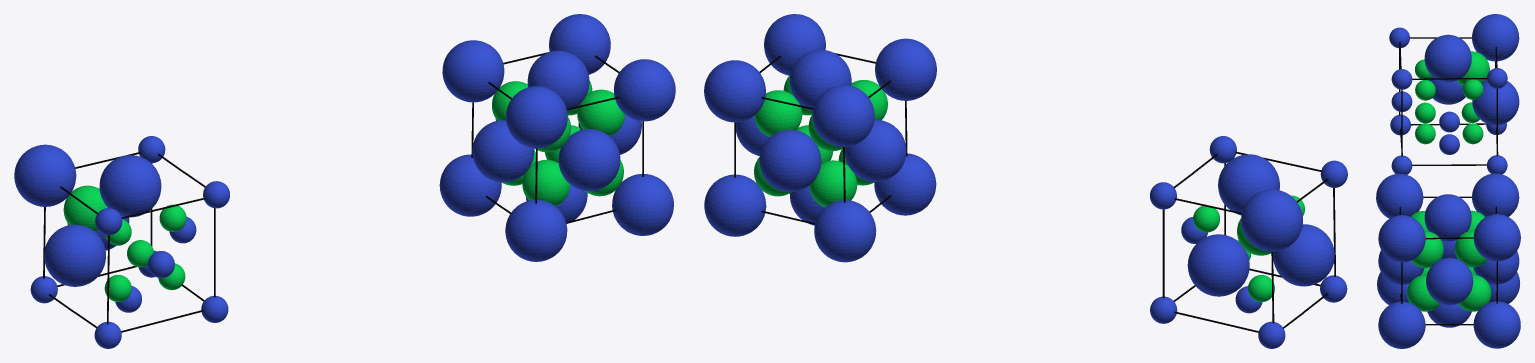
The model's file is CCCuCaF2.gltf.
3 views of the same model, side by side, from view 1: azimuth 30°, elevation 25°; view 2: azimuth 150°, elevation 25°; view 3: azimuth 270°, elevation 25° (orthographic). The views are drawn at different scales.
Parts seen in each view (by area): view 1: Sphere.030_Sphere.035, Sphere.001_Sphere.161, Sphere.026_Sphere.180, Sphere.006_Sphere.166, Sphere.025_Sphere.179, Sphere.016_Sphere.171, Sphere.007_Sphere.167, Sphere.042_Sphere.047, Sphere.024_Sphere.031, Sphere.009_Sphere.169, Sphere.020_Sphere.175, Sphere.015_Sphere.183 (+17 smaller); view 2: Sphere.041_Sphere.046, Sphere.042_Sphere.047, Sphere.020_Sphere.175, Sphere.015_Sphere.183, Sphere.023_Sphere.178, Sphere.004_Sphere.164, Sphere.025_Sphere.179, Sphere.001_Sphere.161, Sphere.030_Sphere.035, Sphere.009_Sphere.169, Sphere.006_Sphere.166, Sphere.026_Sphere.180 (+15 smaller); view 3: Sphere.015_Sphere.183, Sphere.007_Sphere.167, Sphere.004_Sphere.164, Sphere.026_Sphere.180, Sphere.003_Sphere.163, Sphere.024_Sphere.031, Sphere.042_Sphere.047, Sphere.005_Sphere.165, Sphere.001_Sphere.161, Sphere.025_Sphere.179, Sphere.041_Sphere.046, Sphere.016_Sphere.171 (+33 smaller).
Part boxes in pixels (x1,y1,x2,y2): Sphere.030_Sphere.035: (44, 224, 105, 286); Sphere.001_Sphere.161: (506, 86, 567, 148); Sphere.026_Sphere.180: (613, 59, 675, 121); Sphere.006_Sphere.166: (505, 199, 567, 261); Sphere.025_Sphere.179: (442, 40, 504, 102); Sphere.016_Sphere.171: (558, 129, 620, 191); Sphere.007_Sphere.167: (612, 174, 673, 235); Sphere.042_Sphere.047: (14, 144, 76, 206); Sphere.024_Sphere.031: (99, 155, 161, 217); Sphere.009_Sphere.169: (472, 120, 534, 182); Sphere.020_Sphere.175: (439, 154, 501, 216); Sphere.015_Sphere.183: (549, 14, 610, 74); Sphere.041_Sphere.046: (1187, 234, 1249, 296); Sphere.042_Sphere.047: (1241, 189, 1302, 251); Sphere.020_Sphere.175: (814, 200, 876, 262); Sphere.015_Sphere.183: (704, 60, 765, 122); Sphere.023_Sphere.178: (759, 129, 821, 191); Sphere.004_Sphere.164: (704, 174, 766, 236); Sphere.025_Sphere.179: (812, 85, 874, 146); Sphere.001_Sphere.161: (875, 38, 936, 100); Sphere.030_Sphere.035: (1273, 224, 1334, 286); Sphere.009_Sphere.169: (845, 119, 906, 181); Sphere.006_Sphere.166: (874, 153, 936, 215); Sphere.026_Sphere.180: (764, 14, 825, 75); Sphere.015_Sphere.183: (1473, 214, 1520, 261); Sphere.007_Sphere.167: (1378, 301, 1425, 348); Sphere.004_Sphere.164: (1473, 301, 1520, 348); Sphere.026_Sphere.180: (1378, 215, 1425, 262); Sphere.003_Sphere.163: (1426, 257, 1473, 305); Sphere.024_Sphere.031: (1424, 34, 1471, 82); Sphere.042_Sphere.047: (1472, 14, 1519, 61); Sphere.005_Sphere.165: (1424, 194, 1471, 241); Sphere.001_Sphere.161: (1376, 173, 1423, 218); Sphere.025_Sphere.179: (1472, 173, 1519, 216); Sphere.041_Sphere.046: (1472, 80, 1519, 125); Sphere.016_Sphere.171: (1378, 250, 1424, 284).
Bounding box in the file's own units: 49.97 × 13.83 × 13.85.
